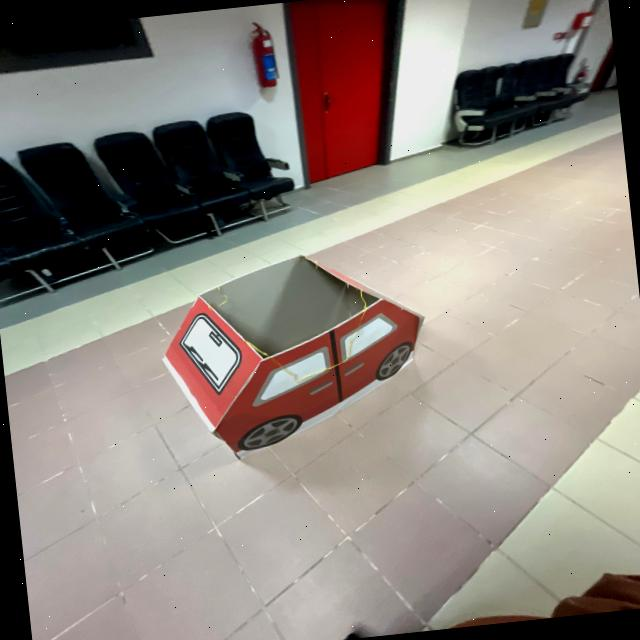red_car: (112, 226, 449, 473)
